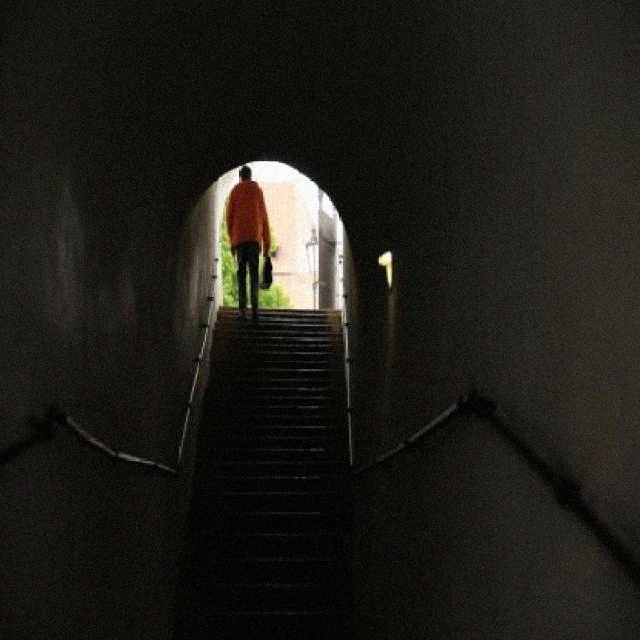stair: (169, 309, 353, 640)
